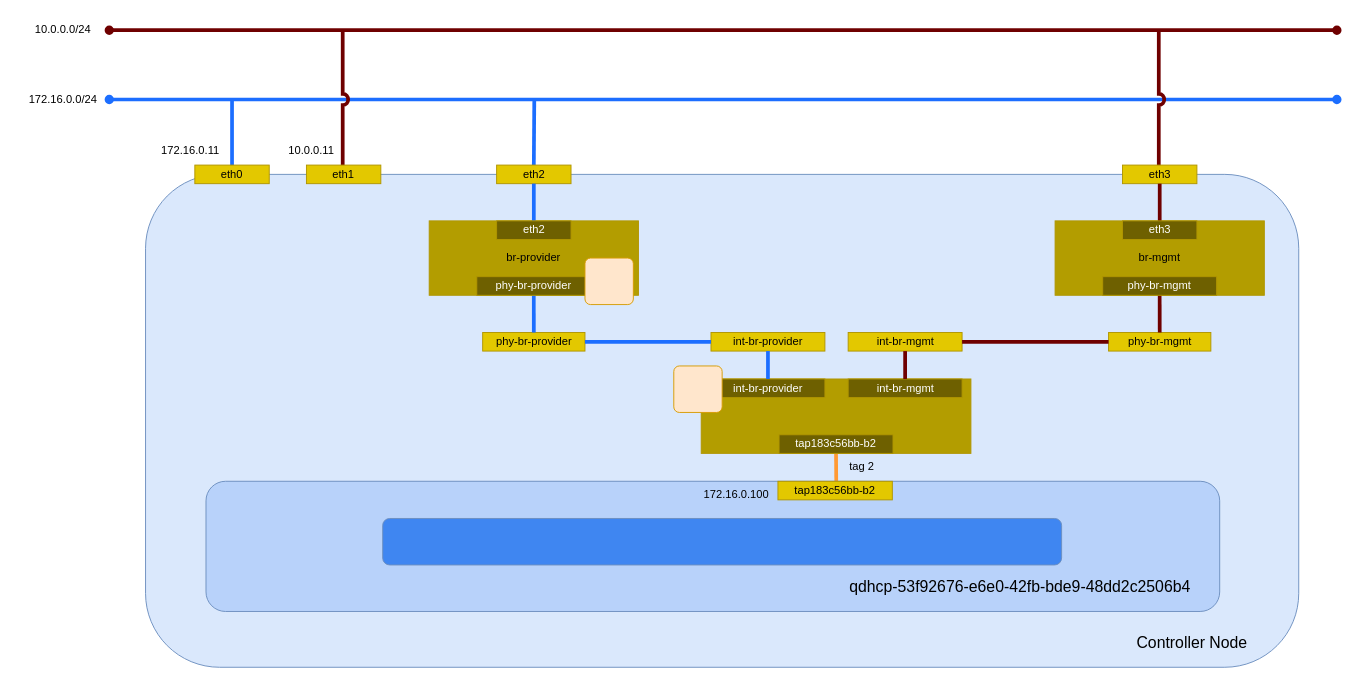
The diagram is 1362 pixels wide and 684 high, and some of its shapes have lost their labels. The box of each missing label's shape, as (x1, y1, x2, y2) in pixels:
br-int: (700, 378, 971, 453)
DHCP agent: (382, 518, 1062, 565)
tag なし ↑ tag 2: (584, 257, 633, 305)
tag なし ↓ tag 2: (673, 365, 722, 412)
